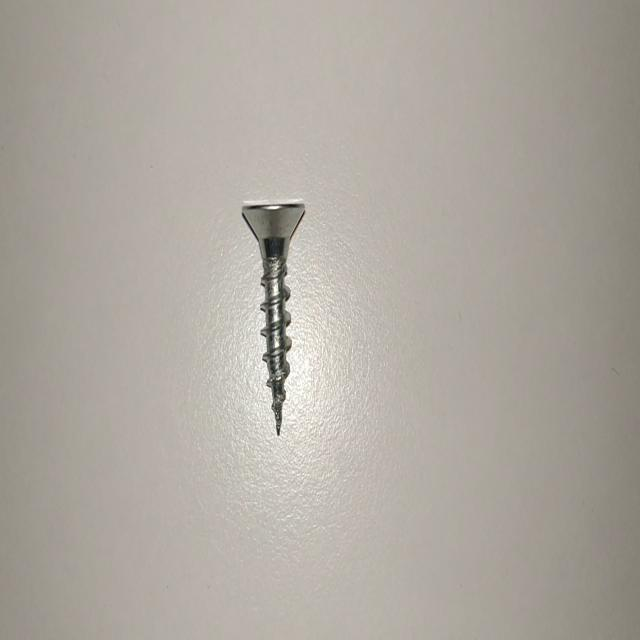Screw: (242, 199, 305, 434)
